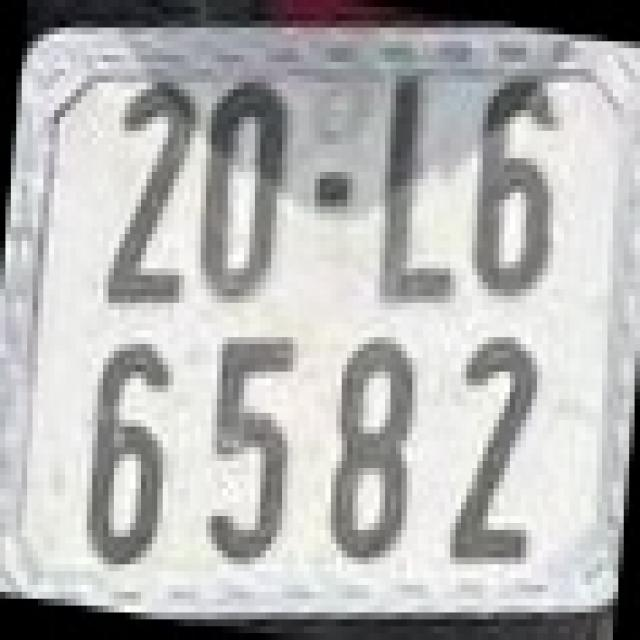0: (195, 75, 293, 302)
2: (445, 330, 542, 564), (103, 76, 195, 310)
5: (206, 323, 298, 564)
6: (472, 69, 564, 296), (82, 338, 174, 564)
8: (326, 330, 418, 564)
L: (369, 62, 461, 303)
